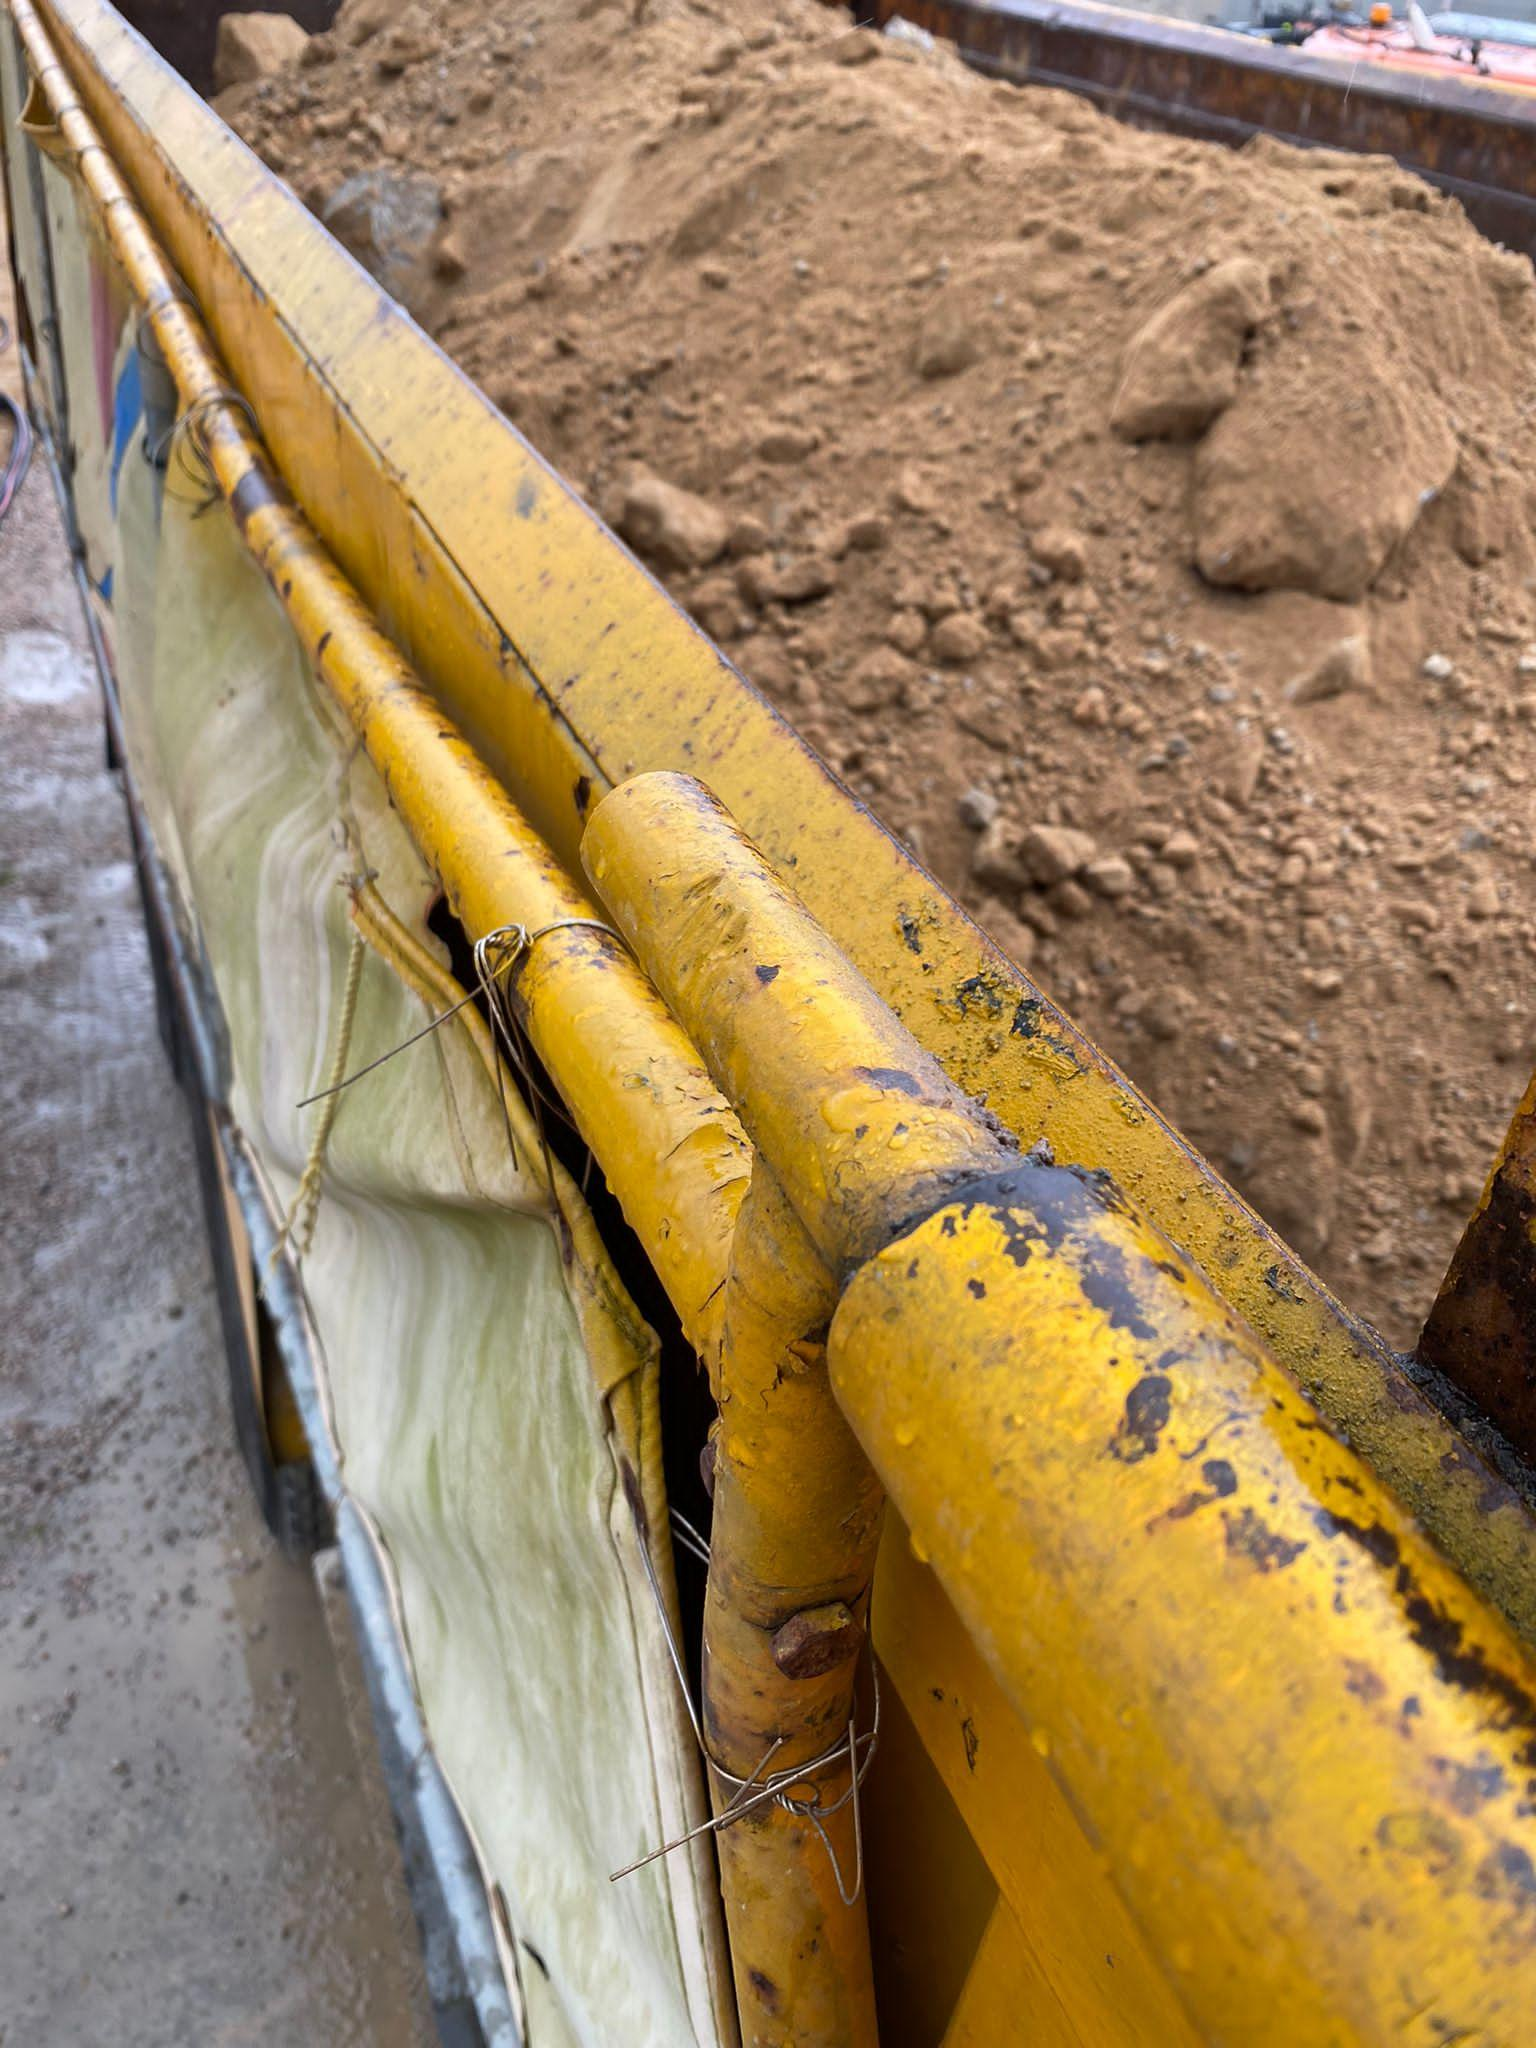dry: (207, 0, 1527, 1343)
